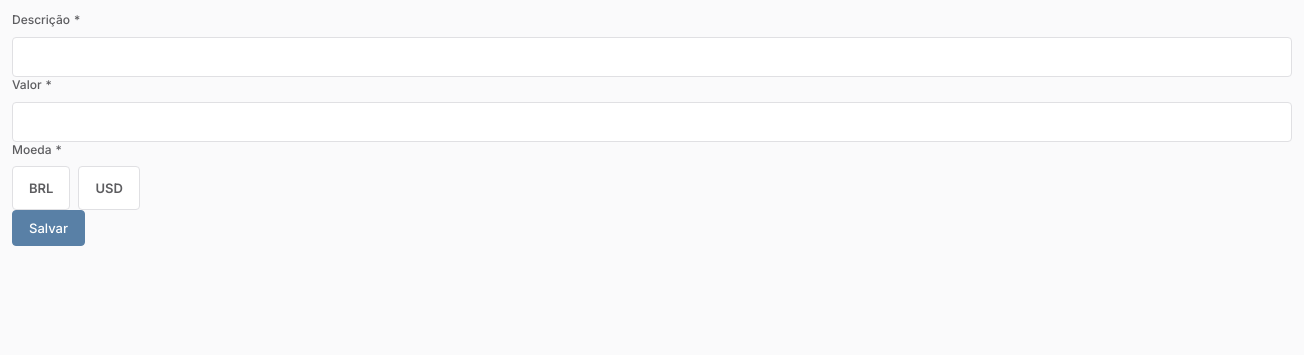
Scenario: useValidacao › ao salvar com problema, mostra todos, resume e leva o foco ao primeiro
The image size is (1304, 355).
Click the button "Salvar".
click(48, 228)  # box x1=12 y1=210 x2=85 y2=246
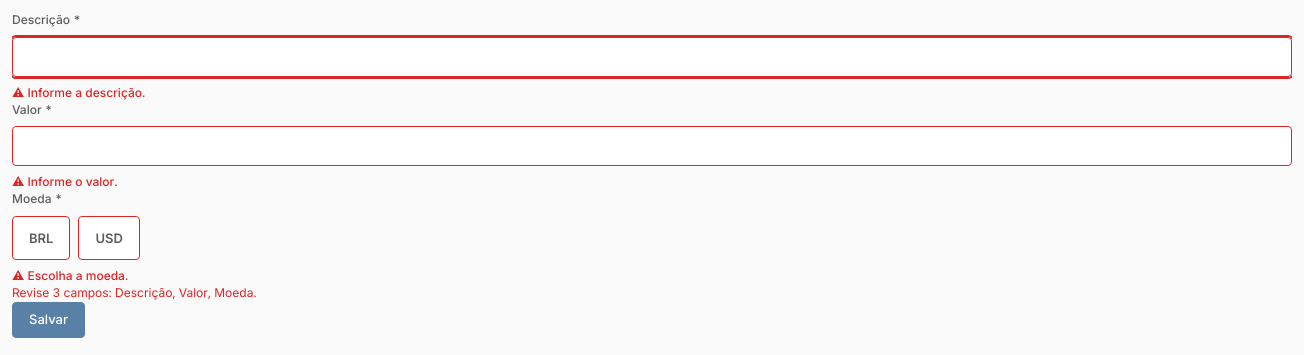
Expected: the message reads "Revise 3 campos: Descrição, Valor, Moeda.", x1=12 y1=285 x2=257 y2=300
